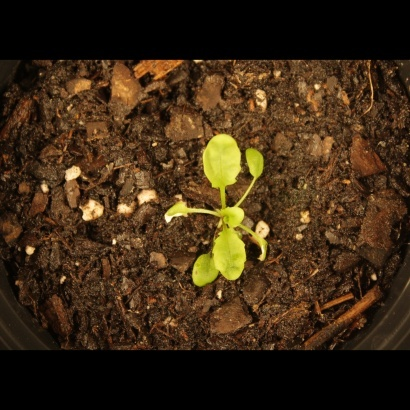leaf: (200, 131, 245, 190), (211, 231, 249, 284), (242, 139, 274, 183), (189, 248, 220, 293), (158, 197, 193, 230), (218, 200, 248, 232)
